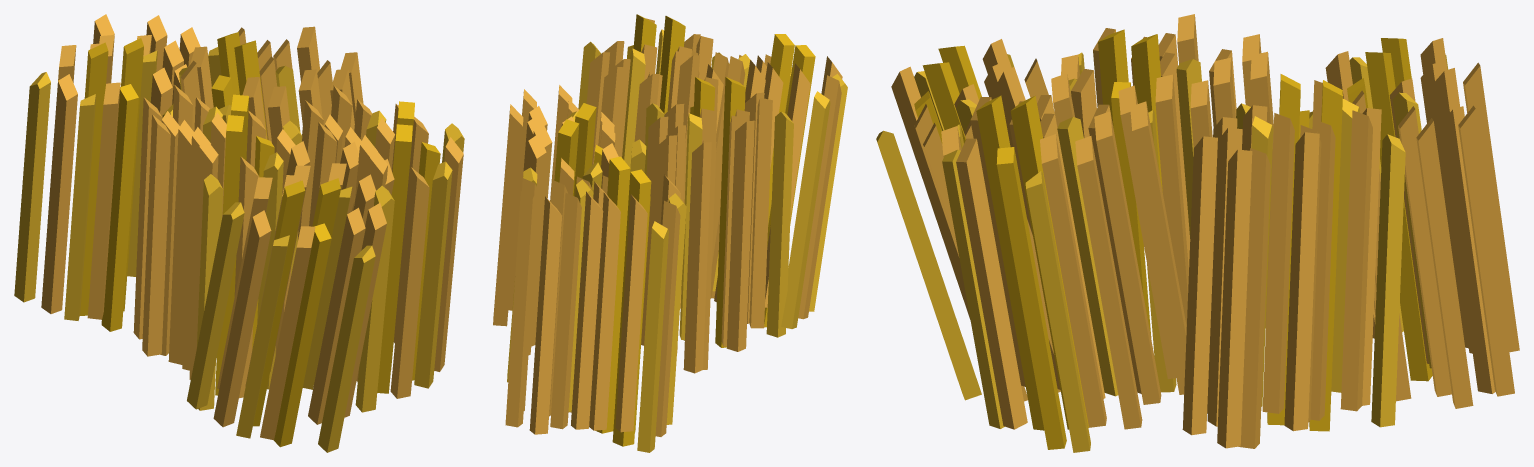
File: kartoshkaInBox.fbx
The picture shows the model from 3 angles, left to right: view 1: azimuth 30°, elevation 25°; view 2: azimuth 150°, elevation 25°; view 3: azimuth 270°, elevation 25°; orthographic projection. The views are drawn at different scales.
Visible parts, largest first — view 1: Cube.014; view 2: Cube.014; view 3: Cube.014.
Boxes of the visible parts, left/top/right/bottom form: Cube.014: left=14, top=14, right=464, bottom=452; Cube.014: left=493, top=14, right=847, bottom=452; Cube.014: left=876, top=14, right=1519, bottom=452.
Size of the model in its own units: 29.21 by 32.42 by 52.55.
